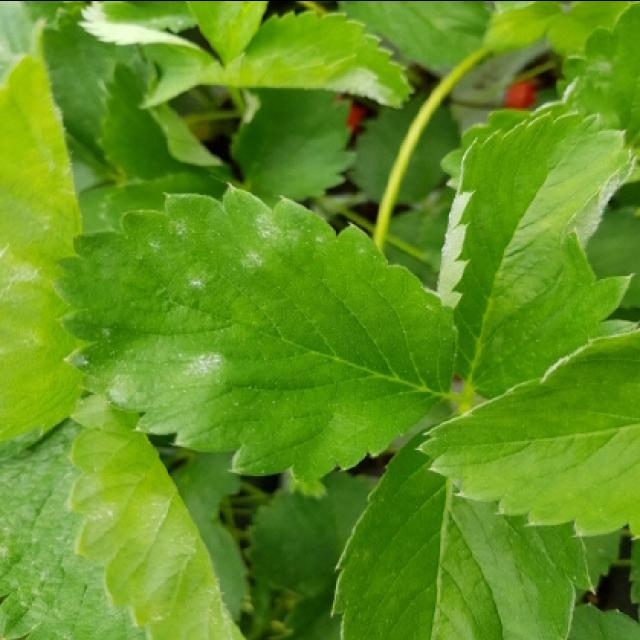Powdery Mildew Leaf: (54, 183, 458, 485), (0, 392, 247, 638), (438, 107, 638, 402), (0, 15, 94, 448), (199, 7, 416, 109)
